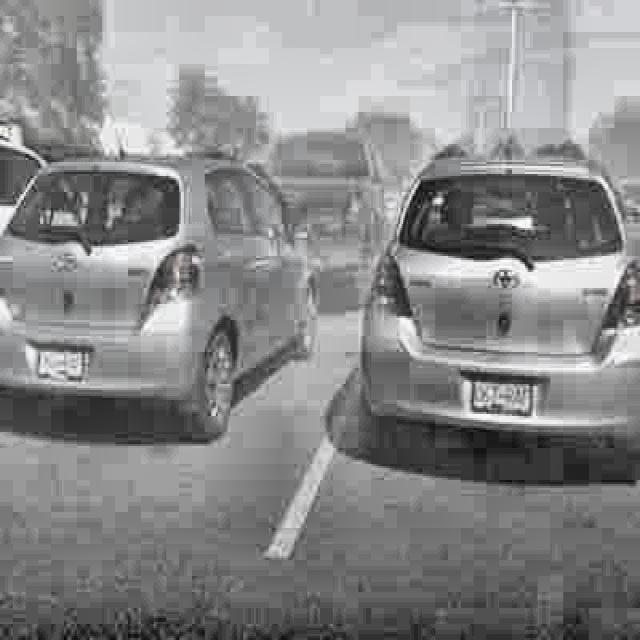license_plate: (472, 378, 533, 418), (36, 348, 84, 382)
